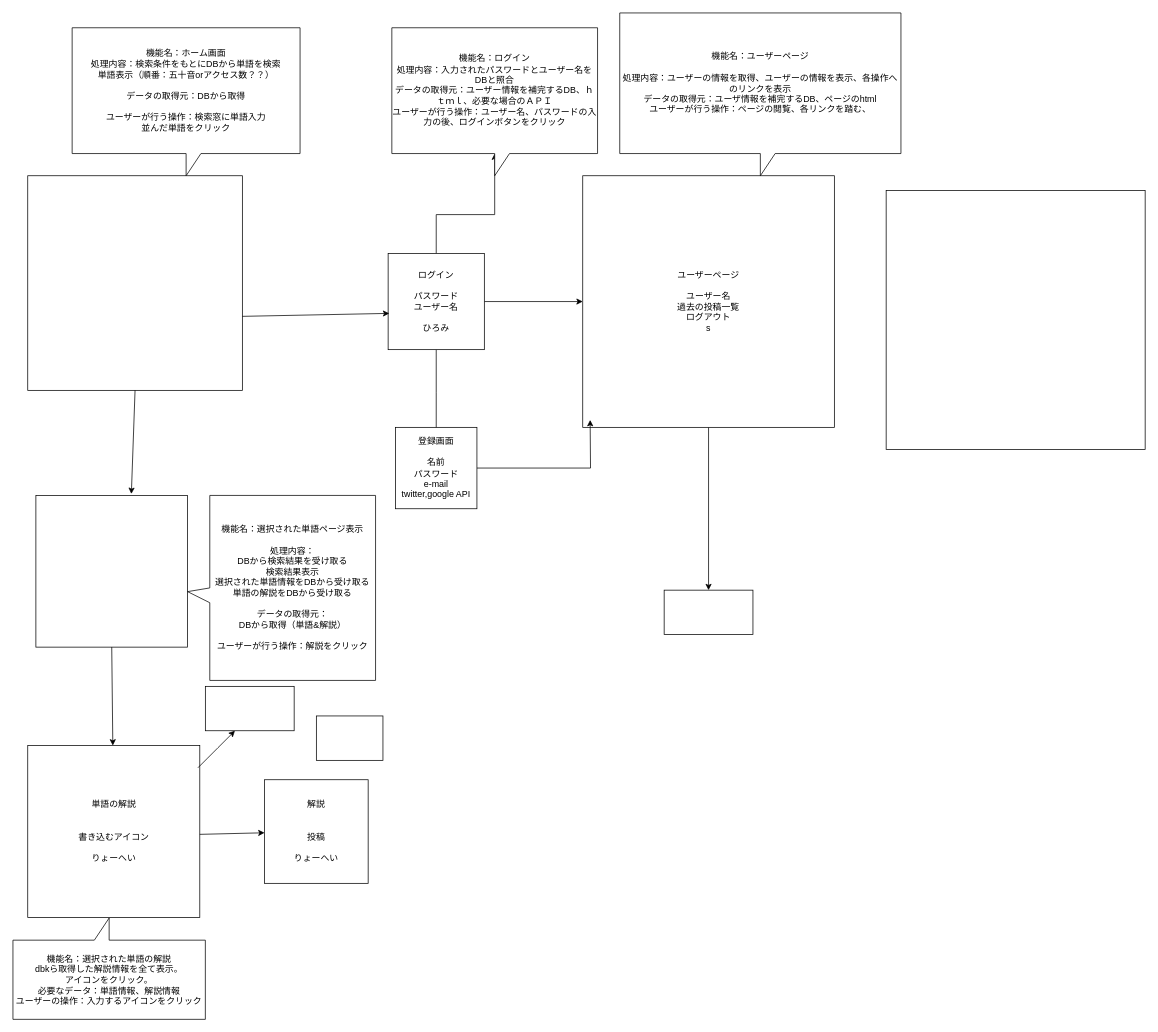
Image size: 1158x1032. Some labels were removed from this diagram. The shapes that lost their labels are listed below. From the top down, each one's box as (x1, y1, x2, y2) in pixels, then its label:
(27, 175, 242, 390): ホーム画面 検索窓 単語がずらり ひらまつ
(885, 190, 1145, 450): 機能名 処理内容 処理に必要なデータ データの取得元 ユーザーが行い操作
(35, 495, 188, 647): 単語 解説 解説 解説 ひらまつ
(663, 589, 753, 635): ログインした状態
(205, 686, 294, 731): dbへ検索
